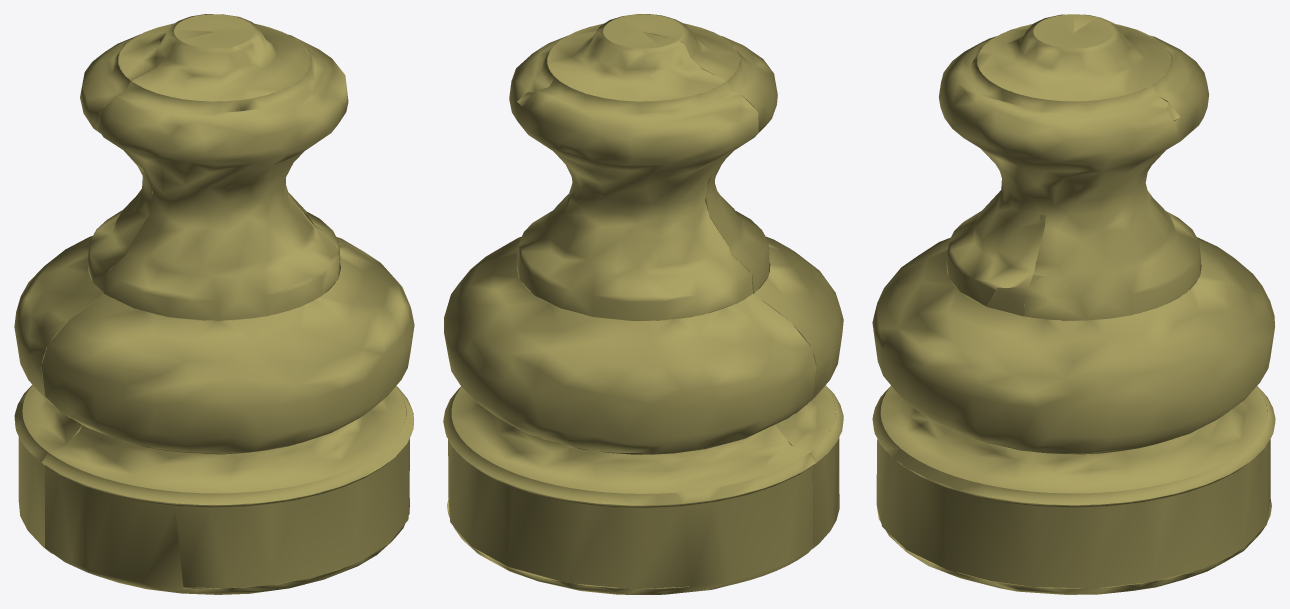
File: pomo_laton.glb
3 views of the same model, side by side, from view 1: azimuth 30°, elevation 25°; view 2: azimuth 150°, elevation 25°; view 3: azimuth 270°, elevation 25° (orthographic).
Visible parts, largest first — view 1: Object_2; view 2: Object_2; view 3: Object_2.
Boxes of the visible parts, box(x1,y1,x2,y2) form: Object_2: box(14, 14, 414, 594); Object_2: box(443, 14, 843, 594); Object_2: box(872, 14, 1275, 594).
Bounding box in the file's own units: 0.0554 × 0.0751 × 0.0559.
1 material, 1 textured.
